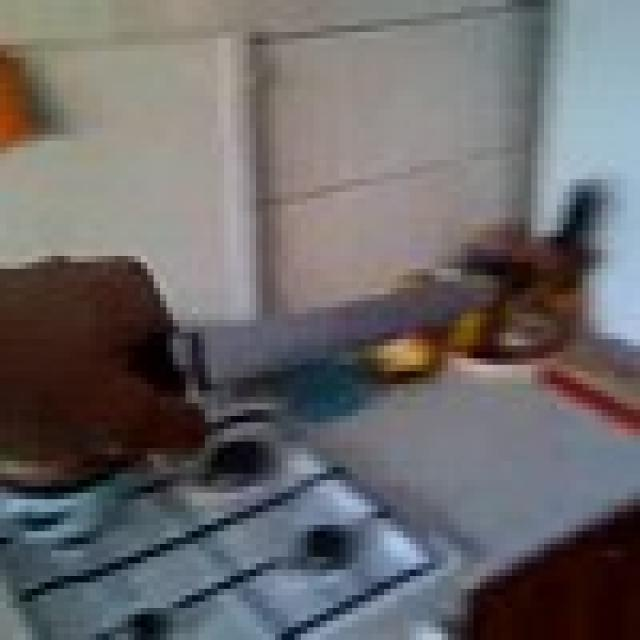knife: (179, 263, 474, 423)
